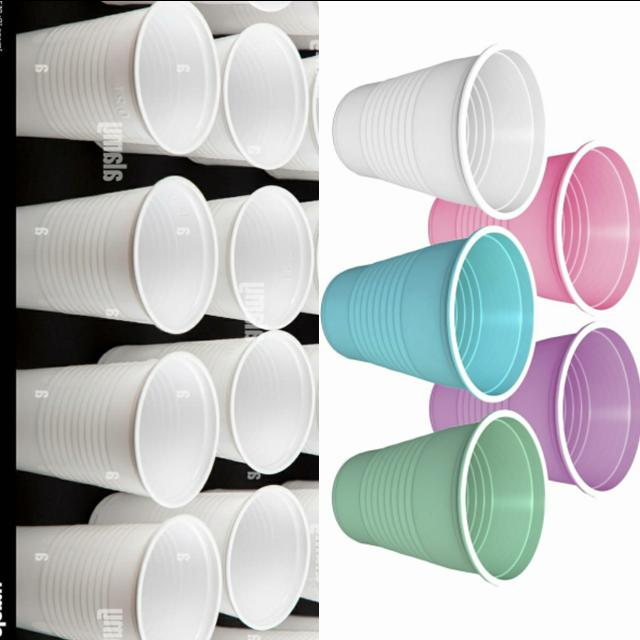plastik: (322, 226, 535, 400), (333, 410, 546, 583), (430, 321, 640, 495), (429, 141, 640, 313), (334, 45, 545, 217), (17, 175, 218, 333), (91, 485, 310, 629), (17, 351, 219, 506), (17, 0, 220, 154), (100, 329, 315, 473), (17, 514, 222, 640), (188, 22, 308, 169), (207, 184, 314, 329)
